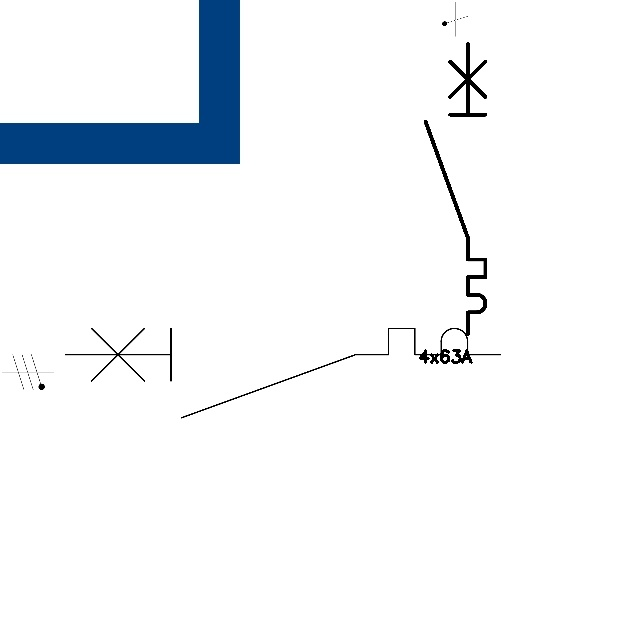interruptor_termomagnetico: (53, 317, 511, 429), (418, 36, 493, 341)
